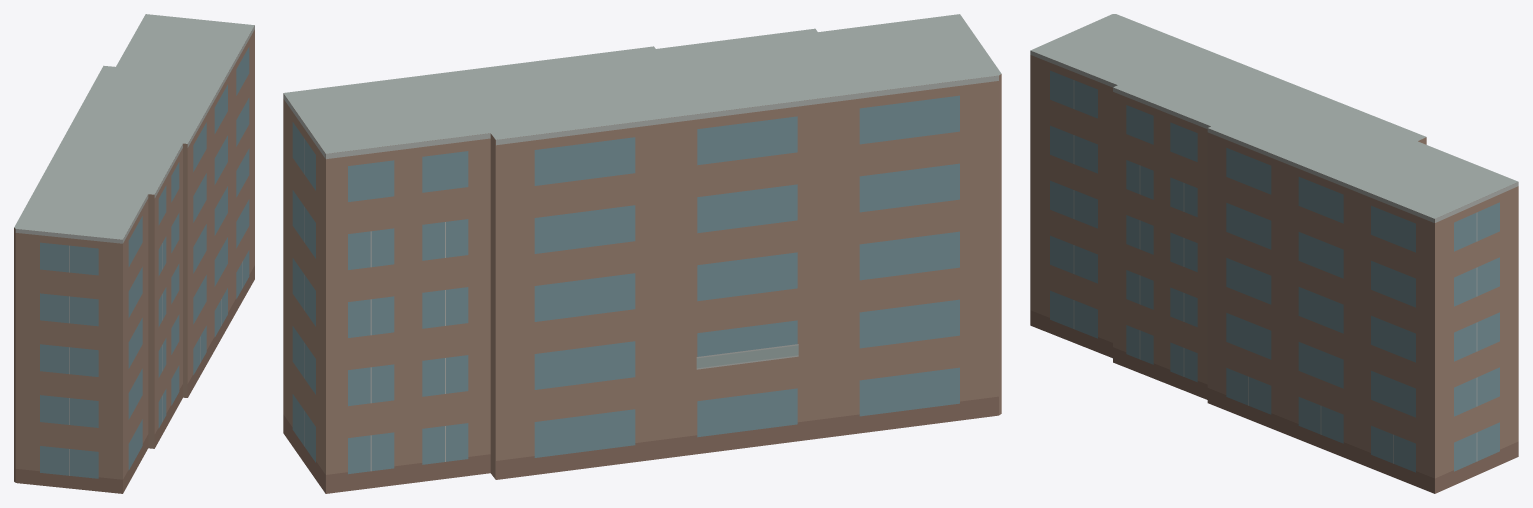
Rendered from survey-upis-32731670.glb.
3 views of the same model, side by side, from view 1: azimuth 30°, elevation 25°; view 2: azimuth 150°, elevation 25°; view 3: azimuth 270°, elevation 25° (orthographic). The views are drawn at different scales.
Parts seen in each view (by area): view 1: survey-upis-32731670.tmp; view 2: survey-upis-32731670.tmp; view 3: survey-upis-32731670.tmp.
Part boxes in pixels (<box>): survey-upis-32731670.tmp: <box>14,14,254,493</box>; survey-upis-32731670.tmp: <box>283,14,1001,493</box>; survey-upis-32731670.tmp: <box>1030,14,1518,493</box>.
Size of the model in its own units: 24.77 by 15.5 by 24.95.
